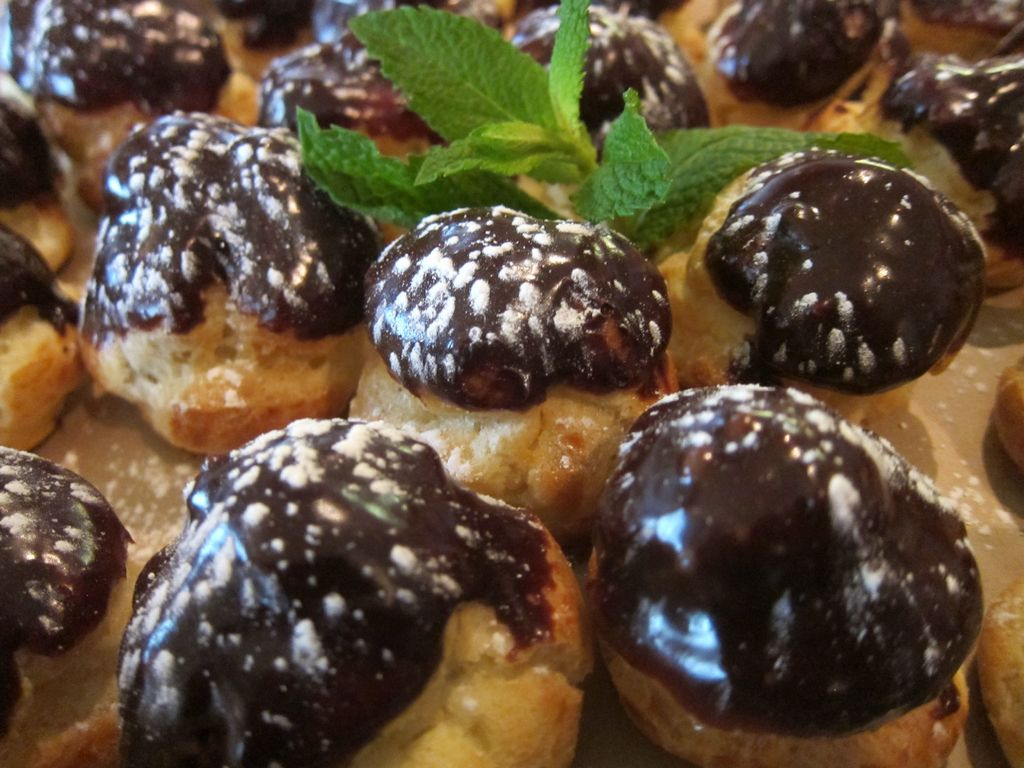person: (0, 58, 92, 301)
